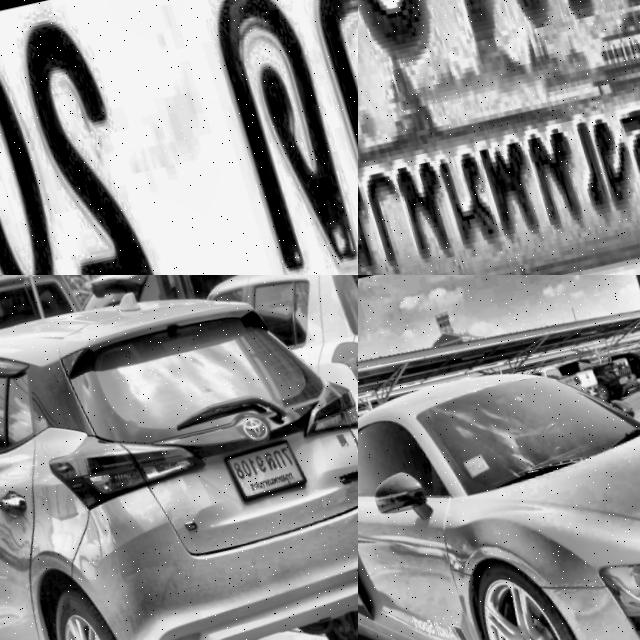license-plate: (0, 0, 358, 275), (358, 0, 640, 275), (211, 430, 306, 511)
